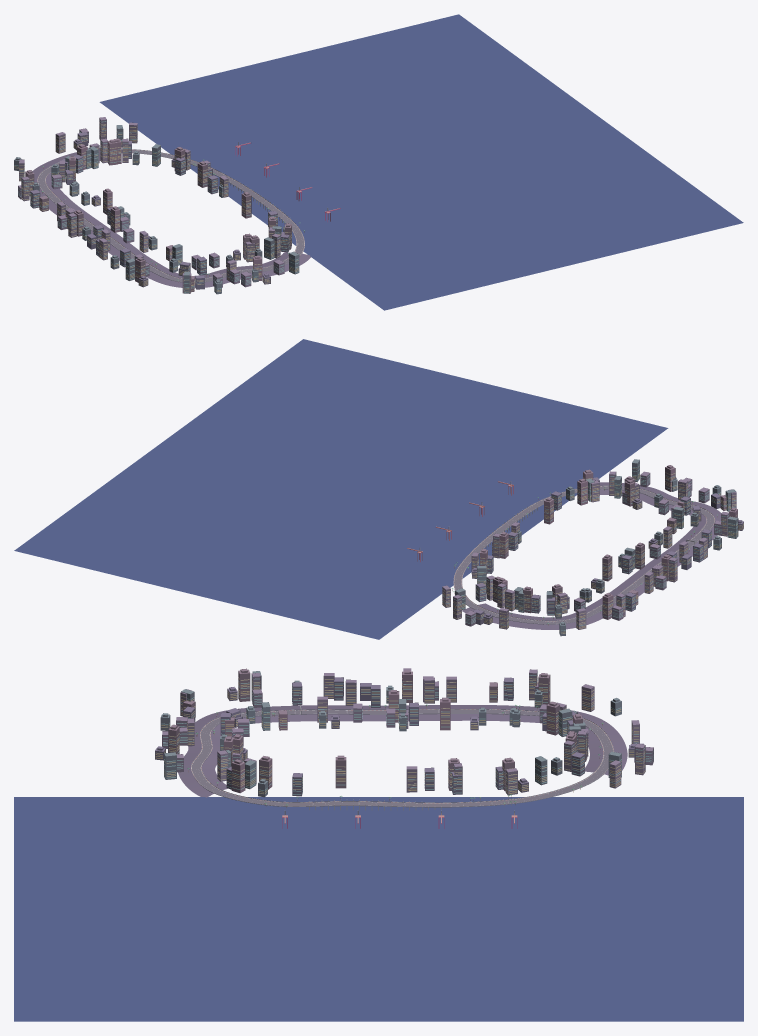
Rendered from track_1.glb.
The picture shows the model from 3 angles, top to bottom: view 1: azimuth 30°, elevation 25°; view 2: azimuth 150°, elevation 25°; view 3: azimuth 270°, elevation 25°; orthographic projection. The views are drawn at different scales.
Visible parts, largest first — view 1: chunk_99, chunk_4, chunk_0, chunk_1, chunk_2, chunk_3, chunk_5; view 2: chunk_99, chunk_1, chunk_0, chunk_4, chunk_2, chunk_3, chunk_5; view 3: chunk_99, chunk_0, chunk_4, chunk_1, chunk_2, chunk_3, chunk_5.
Boxes of the visible parts, box(x1,y1,x2,y2) form: chunk_99: box(99, 14, 743, 310); chunk_4: box(138, 233, 310, 294); chunk_0: box(30, 188, 157, 260); chunk_1: box(14, 117, 121, 202); chunk_2: box(116, 122, 247, 194); chunk_3: box(219, 175, 304, 253); chunk_5: box(110, 244, 182, 282); chunk_99: box(14, 339, 668, 639); chunk_1: box(453, 576, 625, 636); chunk_0: box(591, 526, 707, 611); chunk_4: box(600, 459, 743, 530); chunk_2: box(442, 532, 518, 609); chunk_3: box(487, 469, 599, 543); chunk_5: box(667, 507, 738, 550); chunk_99: box(14, 797, 743, 1021); chunk_0: box(299, 668, 513, 731); chunk_4: box(155, 687, 249, 797); chunk_1: box(507, 669, 653, 775); chunk_2: box(418, 740, 621, 810); chunk_3: box(214, 755, 417, 810); chunk_5: box(238, 668, 302, 730).
Size of what is drawn, in the model's own units: 1481 by 80.42 by 1400.
